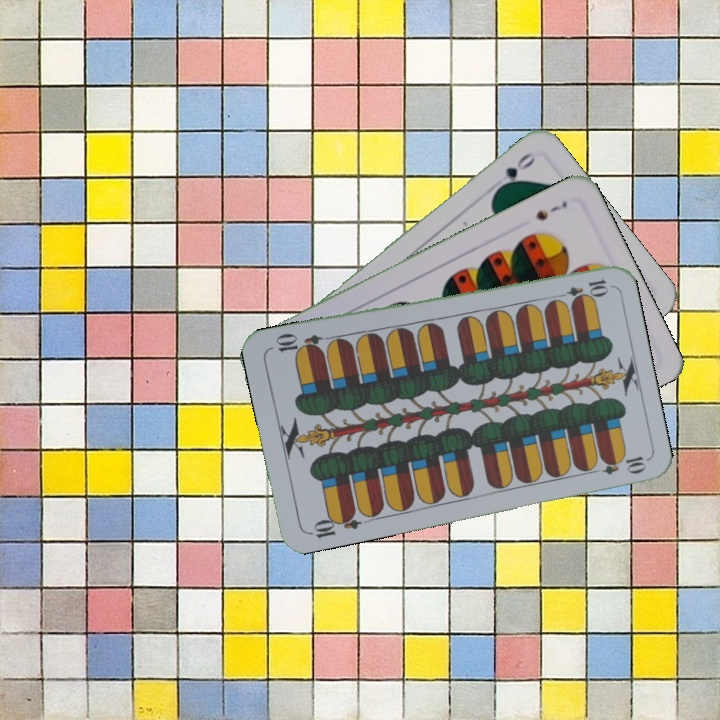E10: (304, 507, 363, 541), (552, 275, 611, 303)
GO: (492, 148, 539, 195)
S7: (531, 197, 570, 223)
